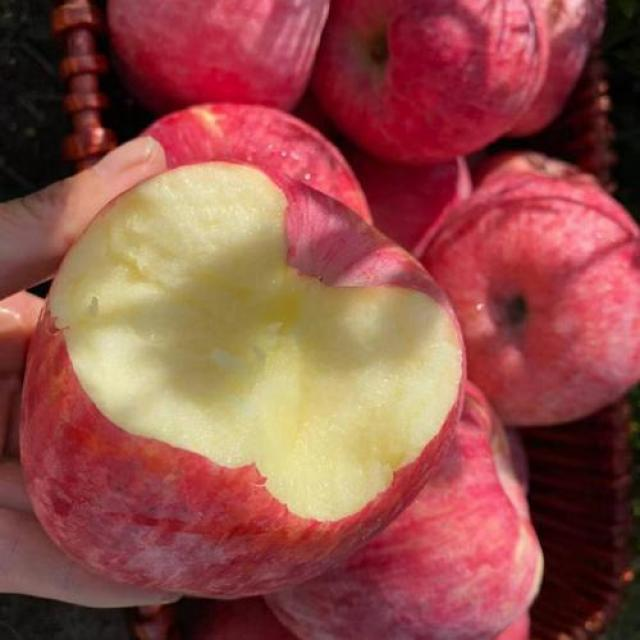Rotten: (26, 168, 455, 589)
